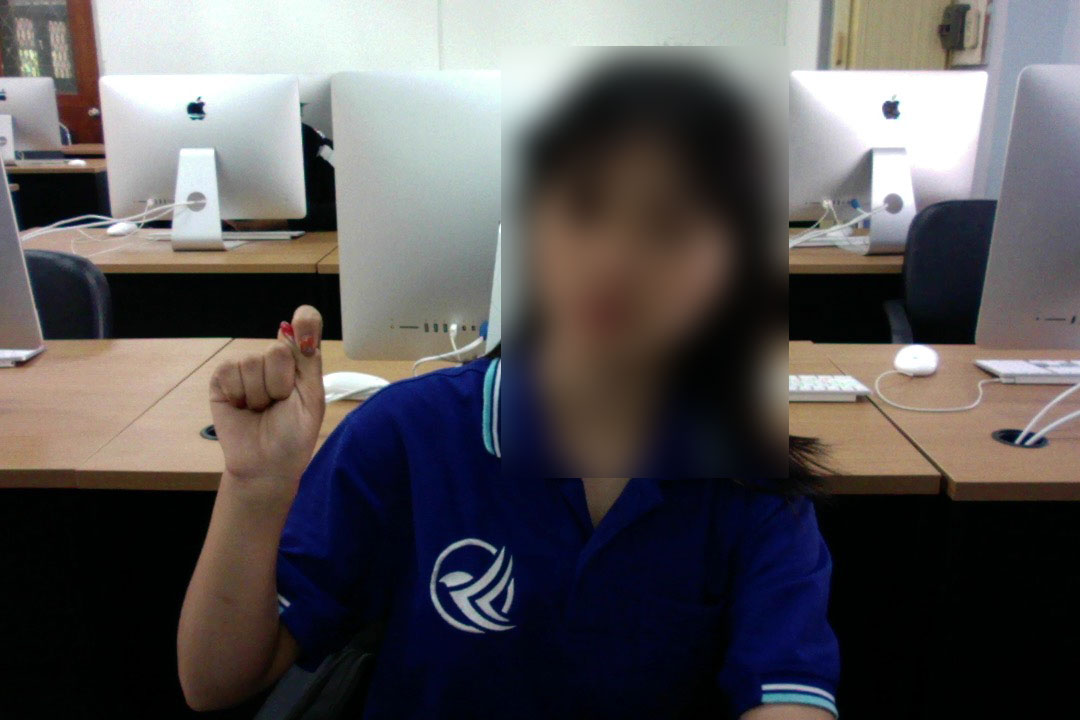tor: (204, 304, 328, 493)
